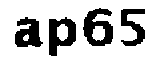5: (118, 7, 150, 49)
6: (82, 6, 115, 49)
a: (13, 17, 43, 50)
p: (46, 14, 80, 58)
